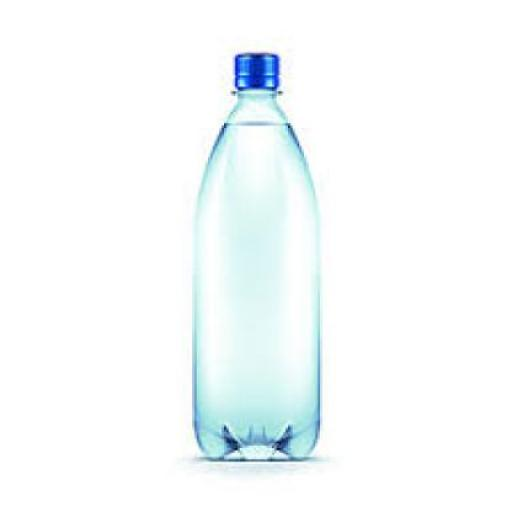plastic: (190, 50, 318, 460), (231, 50, 276, 89)
